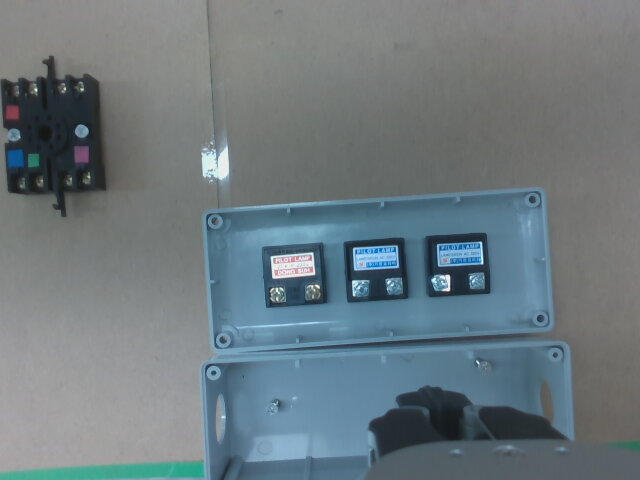L1(1): (268, 287, 285, 302)
L1(2): (305, 285, 321, 300)
L2(1): (351, 281, 370, 297)
L2(2): (386, 278, 404, 295)
L3(1): (432, 274, 450, 292)
L3(2): (469, 273, 486, 289)
